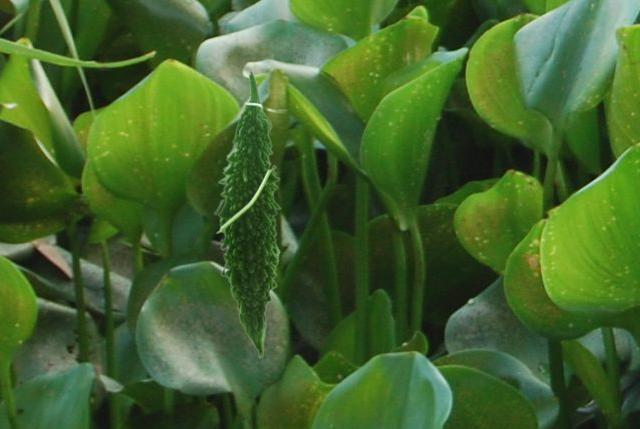ampalaya: (211, 69, 289, 358)
